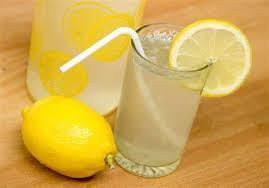lemon: (21, 96, 117, 178), (168, 18, 253, 97)
